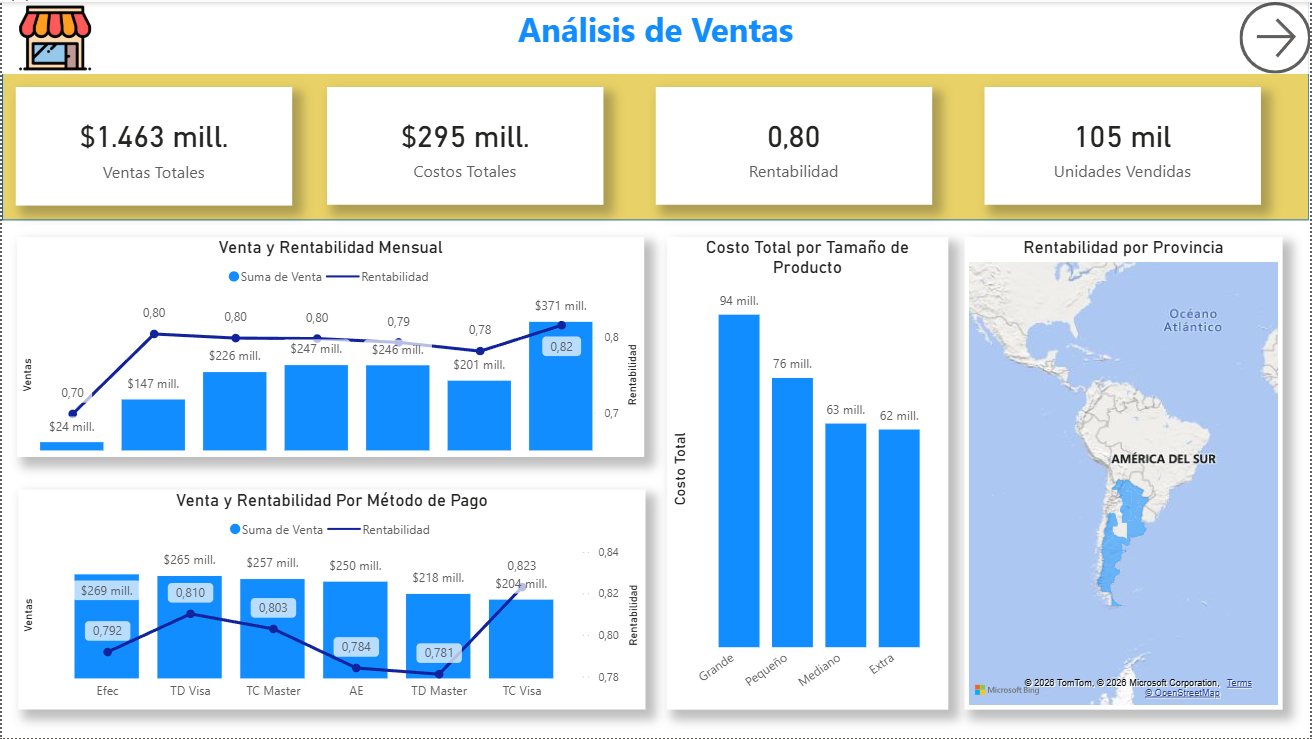

The dashboard page shown, as its layout file describes it:
{"tool":"powerbi","page":{"name":"Overview","canvas":[1280,720],"ordinal":0},"visuals":[{"type":"shape","box":[0,0,1278.8,213.8],"z":0},{"type":"textbox","box":[0,0,1278.8,70],"z":1000},{"type":"card","fields":{"Values":["Medidas.Ventas totales"]},"box":[13.5,83.2,270.2,116.2],"z":2000},{"type":"card","title":"Costos Totales","fields":{"Values":["Sum(Ventas.Costos totales)"]},"box":[317.9,83.2,270.2,114.9],"z":3000},{"type":"card","fields":{"Values":["Sum(Ventas.Cantidad )"]},"box":[961.1,83.2,270.2,114.9],"z":4000},{"type":"card","fields":{"Values":["Medidas.Rentabilidad"]},"box":[639.5,83.2,270.2,114.9],"z":5000},{"type":"image","box":[0,0,103.8,70],"z":6000},{"type":"lineStackedColumnComboChart","title":"Venta y Rentabilidad Mensual","fields":{"Category":["Ventas.Fecha Entrega.Variación.Jerarquía de fechas.Mes"],"Y":["Sum(Ventas.Venta)"],"Y2":["Medidas.Rentabilidad"]},"box":[15,230,613.8,215],"z":7000},{"type":"lineStackedColumnComboChart","title":"Venta y Rentabilidad Por Método de Pago","fields":{"Y":["Sum(Ventas.Venta)"],"Y2":["Medidas.Rentabilidad"],"Category":["Metodos de pago.Descripción Abreviada"]},"box":[16.2,477.5,613.8,215],"z":8000},{"type":"columnChart","title":"Costo Total por Tamaño de Producto ","fields":{"Category":["Producto.Tamaño "],"Y":["Medidas.Costo Total"]},"box":[650,230,275,462.5],"z":9000},{"type":"filledMap","fields":{"Category":["Territorio.País  Jerarquía.Provincia"]},"box":[941.2,230,311.2,462.5],"z":10000},{"type":"actionButton","box":[1210,0,70,70],"z":11000}]}

Visuals, with their boxes in screenshot pixels (x1, y1, x2, y2), scaled from the page's 1280x720 canvas onto the 1312x739 screenshot:
shape: [0, 0, 1311, 219]
textbox: [0, 0, 1311, 72]
card - Medidas.Ventas totales: [14, 85, 291, 205]
"Costos Totales" card: [326, 85, 603, 203]
card - Sum(Ventas.Cantidad ): [985, 85, 1262, 203]
card - Medidas.Rentabilidad: [655, 85, 932, 203]
image: [0, 0, 106, 72]
"Venta y Rentabilidad Mensual" lineStackedColumnComboChart: [15, 236, 645, 457]
"Venta y Rentabilidad Por Método de Pago" lineStackedColumnComboChart: [17, 490, 646, 711]
"Costo Total por Tamaño de Producto " columnChart: [666, 236, 948, 711]
filledMap - Territorio.País  Jerarquía.Provincia: [965, 236, 1284, 711]
actionButton: [1240, 0, 1311, 72]
